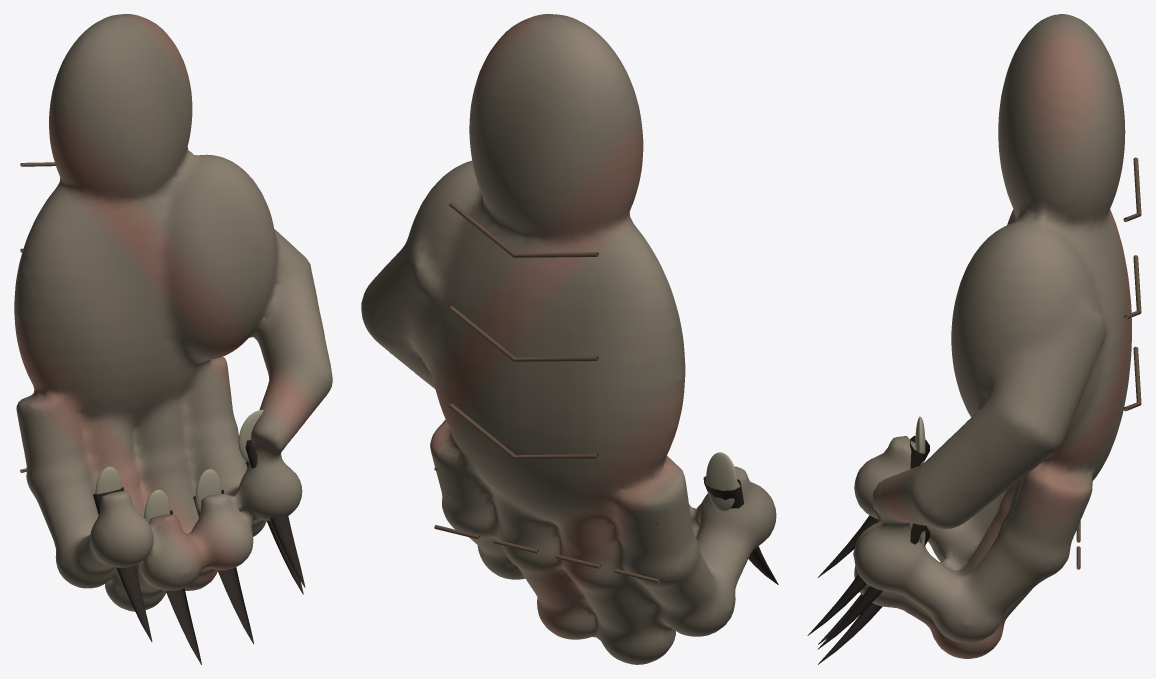
Rendered from clown-hand-web.glb.
3 views of the same model, side by side, from view 1: azimuth 30°, elevation 25°; view 2: azimuth 150°, elevation 25°; view 3: azimuth 270°, elevation 25° (orthographic). The views are drawn at different scales.
Parts seen in each view (by area): view 1: AnatomicalHand, Black claw, Black claw.004, Black claw.002, Black claw.001, Fingernail.002, Fingernail.001, Fingernail, Thumbnail; view 2: AnatomicalHand, Fingernail, Palm fold.001, Palm fold.002, Palm fold, Black claw; view 3: AnatomicalHand, Black claw.003, Black claw, Black claw.002, Black claw.004.
Part boxes in pixels (left/top/right/bottom): AnatomicalHand: left=14, top=14, right=332, bottom=611; Black claw: left=93, top=487, right=152, bottom=641; Black claw.004: left=245, top=440, right=305, bottom=587; Black claw.002: left=193, top=490, right=253, bottom=643; Black claw.001: left=143, top=510, right=201, bottom=664; Fingernail.002: left=195, top=469, right=221, bottom=512; Fingernail.001: left=144, top=489, right=170, bottom=522; Fingernail: left=95, top=466, right=121, bottom=494; Thumbnail: left=238, top=410, right=263, bottom=462; AnatomicalHand: left=361, top=14, right=776, bottom=664; Fingernail: left=706, top=452, right=737, bottom=511; Palm fold.001: left=449, top=306, right=598, bottom=361; Palm fold.002: left=449, top=202, right=598, bottom=257; Palm fold: left=449, top=403, right=598, bottom=459; Black claw: left=703, top=476, right=778, bottom=584; AnatomicalHand: left=853, top=14, right=1131, bottom=658; Black claw.003: left=817, top=523, right=927, bottom=649; Black claw: left=817, top=435, right=929, bottom=577; Black claw.002: left=818, top=527, right=929, bottom=664; Black claw.004: left=807, top=574, right=866, bottom=635.
Bounding box in the file's own units: 0.1066 × 0.2098 × 0.0992.
